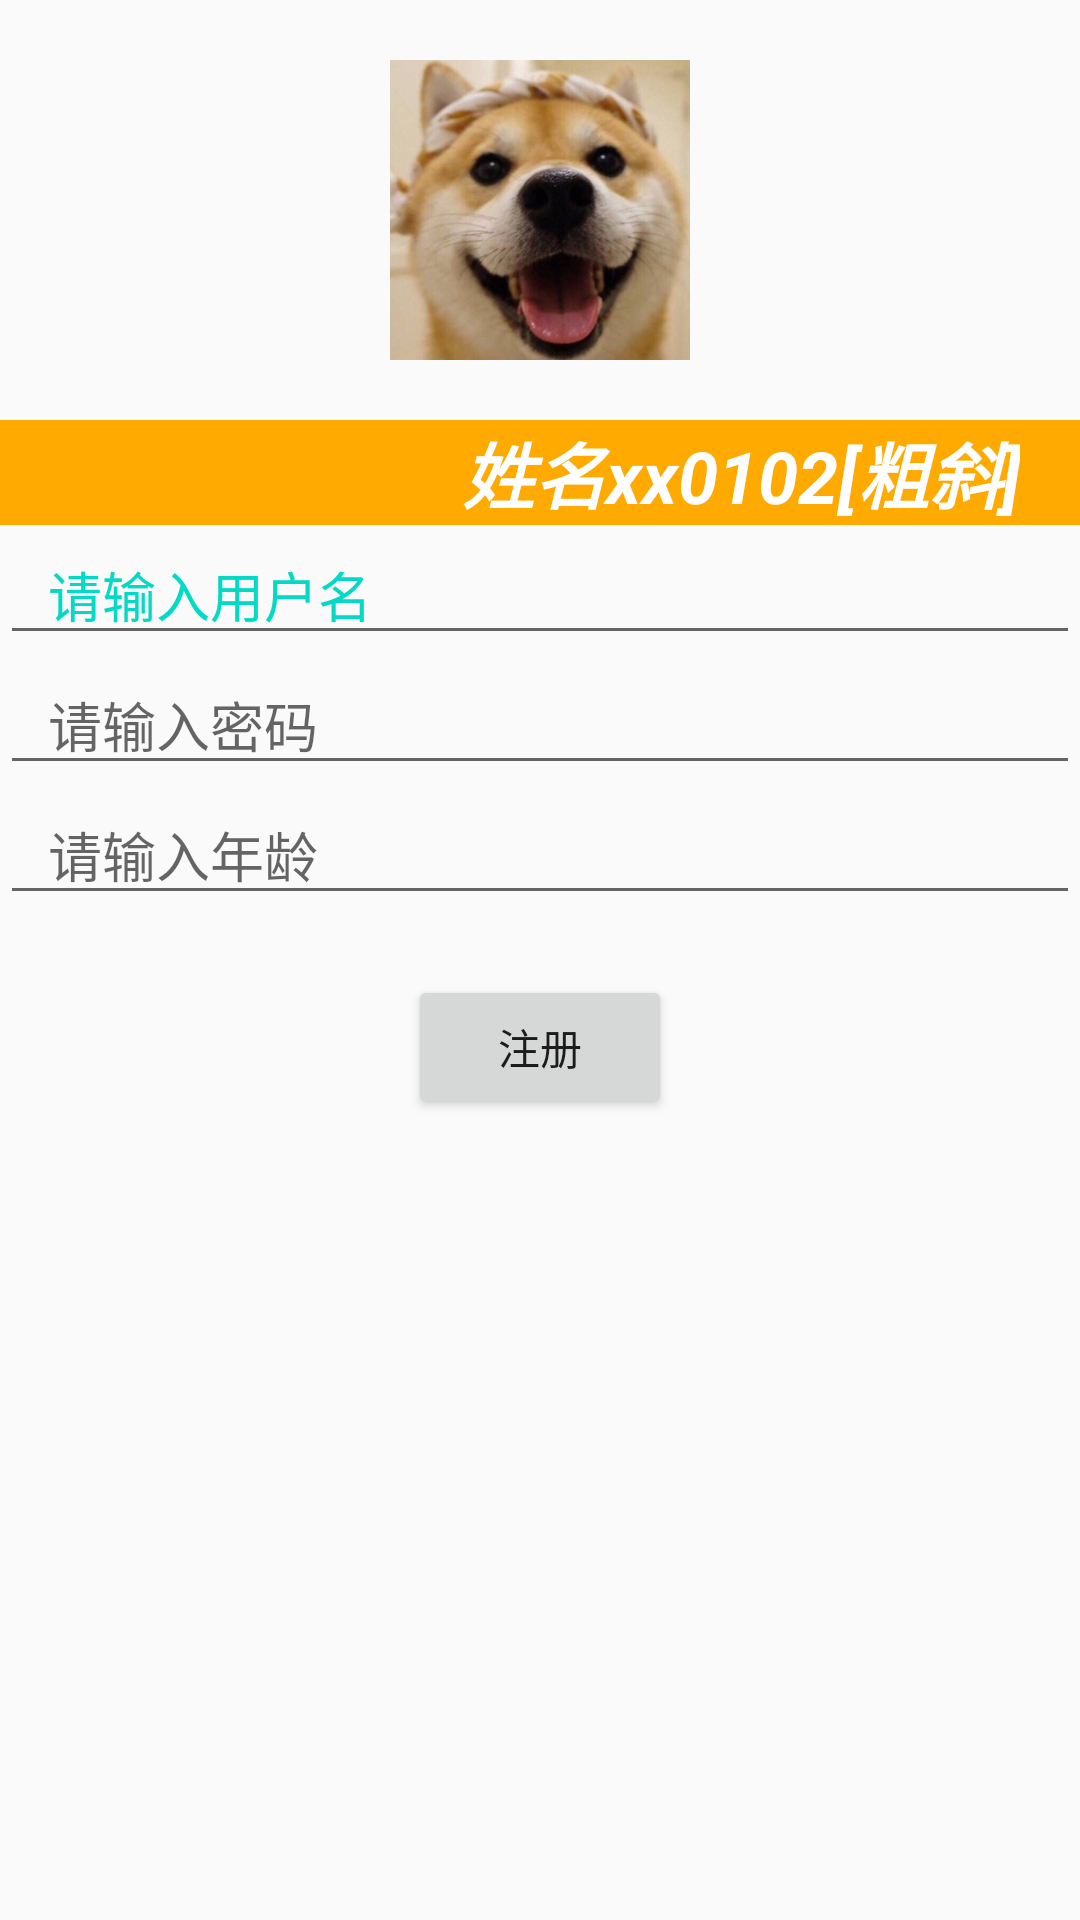

Screen size 1080×1920. Icon name, then its center in pixels as (x=x, y=y):
dog: (x=540, y=210)
